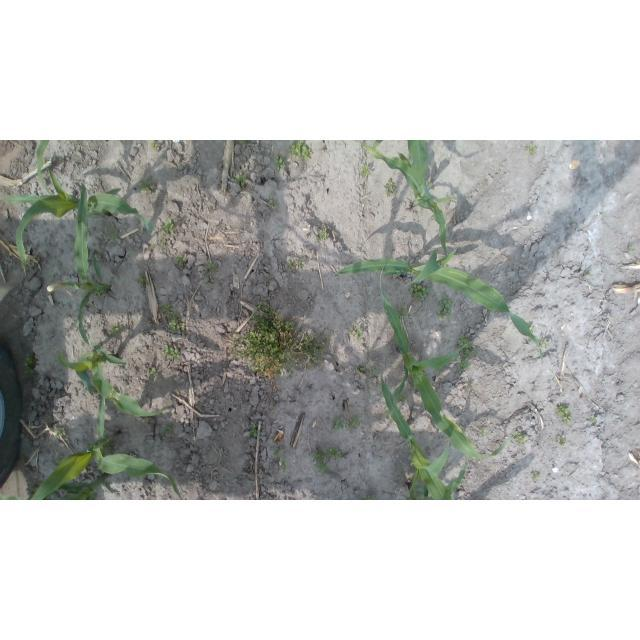Maize: (379, 266, 515, 461), (333, 244, 544, 365), (3, 141, 156, 282), (31, 396, 183, 501), (360, 140, 458, 256), (378, 366, 455, 500), (57, 343, 173, 419), (56, 254, 110, 346), (0, 472, 118, 500), (406, 460, 470, 500)
Weeds: (249, 302, 300, 379), (300, 329, 330, 365), (457, 333, 478, 372), (231, 330, 250, 360), (287, 140, 312, 161), (437, 295, 454, 320), (310, 451, 328, 473), (555, 402, 573, 424), (169, 310, 186, 333), (410, 284, 431, 302), (161, 343, 181, 361), (202, 261, 216, 284), (272, 153, 289, 171), (139, 181, 157, 196), (349, 323, 363, 342), (160, 219, 177, 233), (326, 446, 343, 460), (512, 431, 529, 445), (287, 259, 305, 271), (384, 178, 396, 196), (104, 228, 118, 243), (331, 419, 345, 434), (347, 415, 361, 430), (395, 390, 409, 404), (108, 323, 121, 338), (160, 424, 175, 437), (317, 227, 328, 244), (381, 406, 393, 421), (235, 173, 246, 189), (525, 141, 537, 155), (249, 424, 260, 439), (397, 305, 407, 320), (93, 289, 111, 297), (55, 427, 66, 440), (538, 337, 550, 348), (529, 474, 543, 483), (161, 304, 172, 315), (175, 254, 185, 266), (279, 460, 289, 471), (149, 140, 160, 150), (359, 165, 369, 176), (267, 199, 277, 209), (55, 455, 65, 465), (560, 435, 567, 449), (363, 493, 377, 500), (136, 277, 148, 285), (149, 367, 157, 376), (273, 449, 281, 458), (527, 324, 533, 335), (368, 367, 376, 375), (627, 245, 636, 252), (584, 270, 593, 277), (160, 239, 166, 249), (357, 366, 367, 372), (481, 428, 488, 436), (590, 415, 597, 423), (151, 240, 157, 248), (240, 140, 249, 145), (147, 229, 153, 235), (468, 382, 473, 388), (272, 404, 277, 409)
